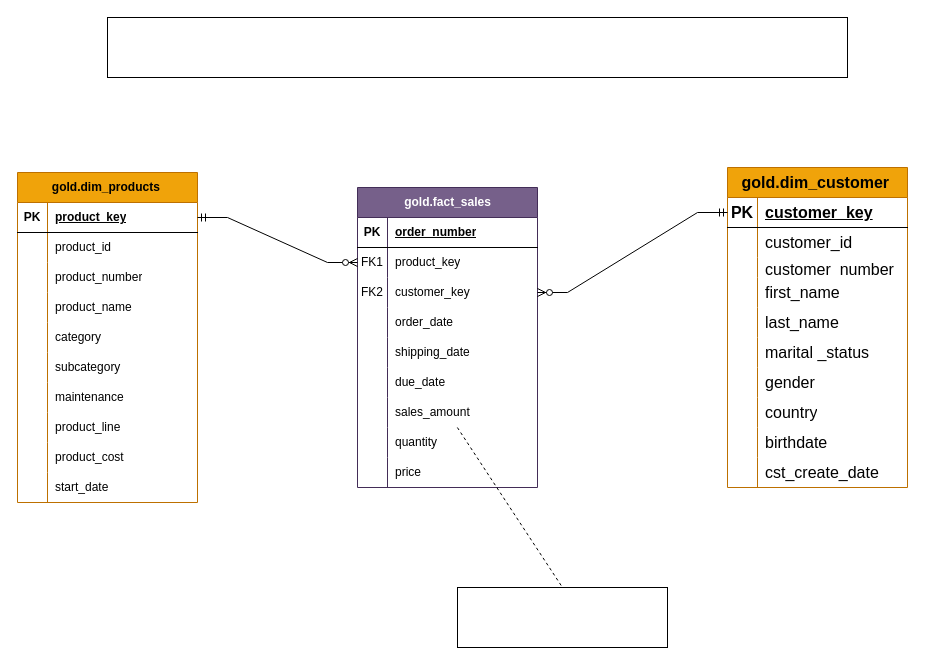
This 925x665 diagram has some shape labels left out. The shapes that lost their labels are listed below. From the top down, each one's centre as x and y in pixels, then its label:
pixel 477 47: Sales Data Mart
pixel 562 617: Sales calculation sales amount = quantity*price
